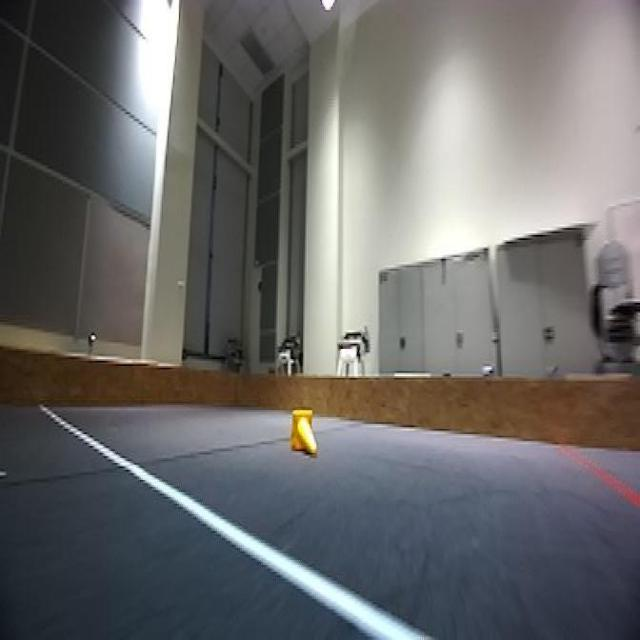frc_cone: (289, 412, 317, 456)
